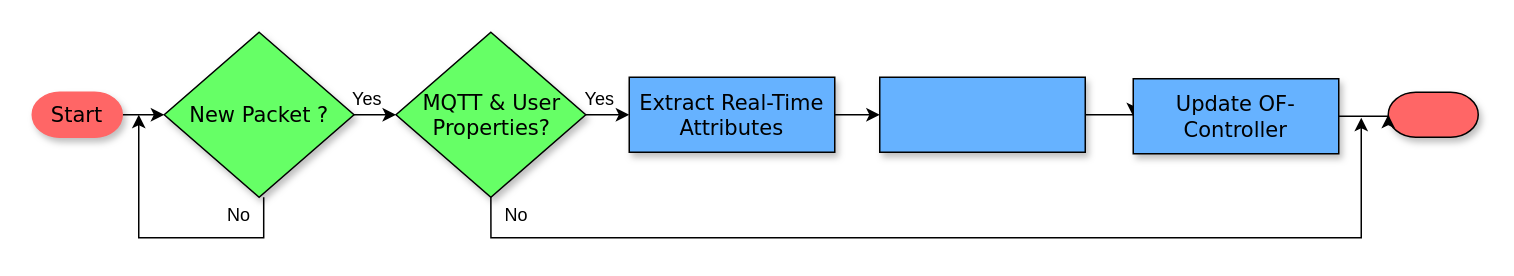
Image size: 1514x276. Some labels were removed from this diagram. The shapes that lost their labels are listed below. From the top down, each one's centre as x and y in pixels, then its label:
the point at 983,116: Insert to OF-DB
the point at 1434,116: End
